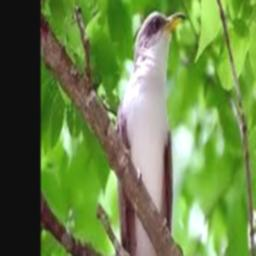Cuckoo: (115, 9, 185, 256)
